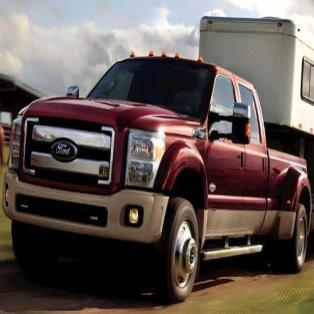Auto: (3, 49, 312, 306)
